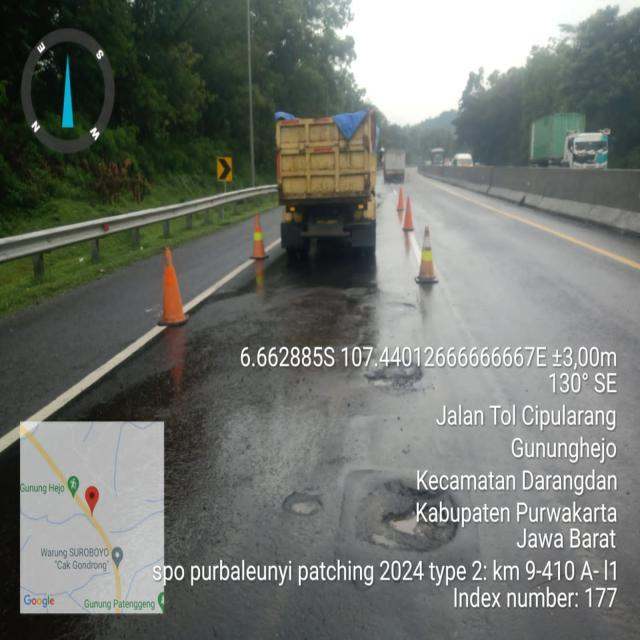Buraco: (350, 476, 462, 556), (361, 358, 426, 399), (278, 484, 328, 520)
